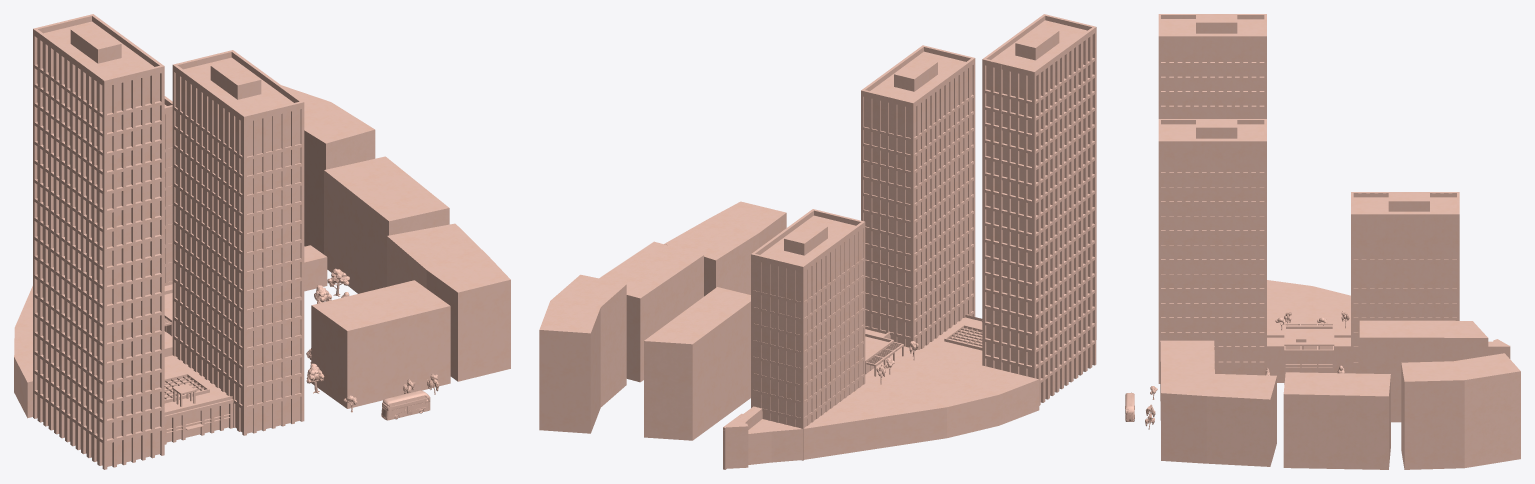
The model's file is CMS3.glb.
The picture shows the model from 3 angles, left to right: view 1: azimuth 30°, elevation 25°; view 2: azimuth 150°, elevation 25°; view 3: azimuth 270°, elevation 25°; orthographic projection. The views are drawn at different scales.
Parts seen in each view (by area): view 1: Buildings, Bus; view 2: Buildings; view 3: Buildings.
Part boxes in pixels (x1,y1,x2,y2): Buildings: [14, 14, 510, 469]; Bus: [381, 390, 430, 420]; Buildings: [539, 14, 1096, 469]; Buildings: [1145, 14, 1520, 469].
Bounding box in the file's own units: 149 × 129 × 153.
2 materials, 2 textured.
